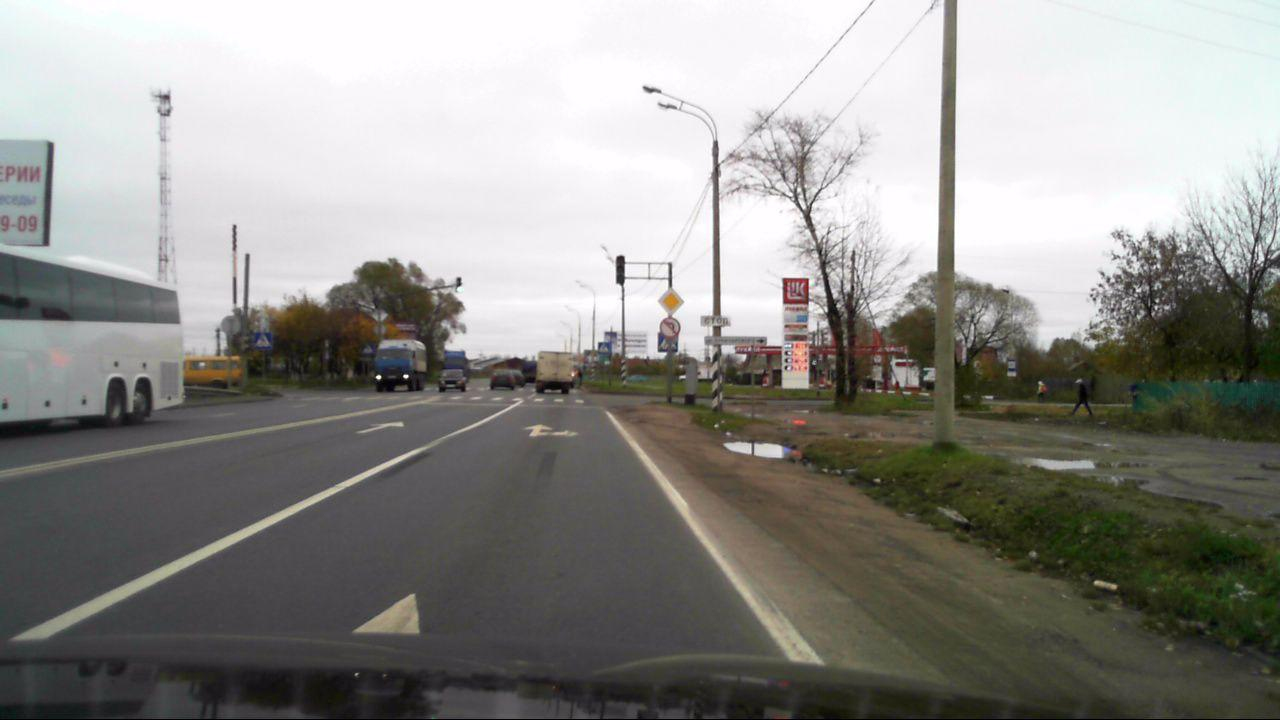2_1: (658, 288, 685, 314)
3_18_2: (659, 316, 681, 336)
5_19_1: (656, 331, 680, 353), (598, 342, 612, 354)
5_19_2: (252, 331, 273, 350)
6_16: (701, 316, 731, 327)
